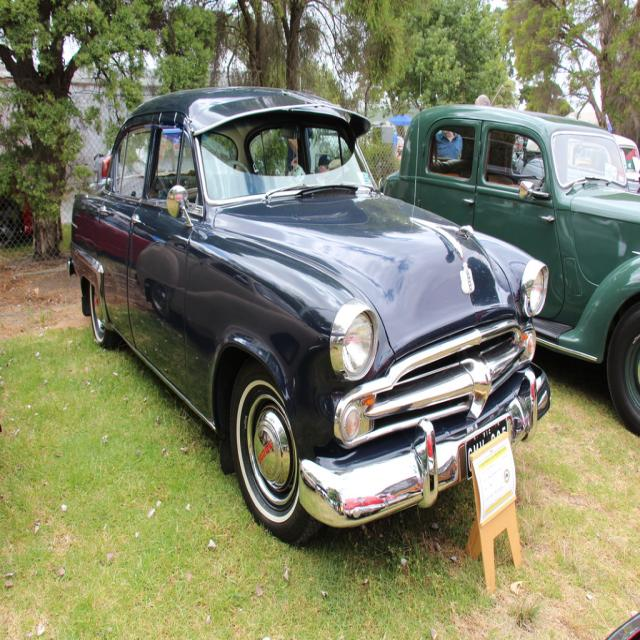car: (74, 69, 550, 547)
